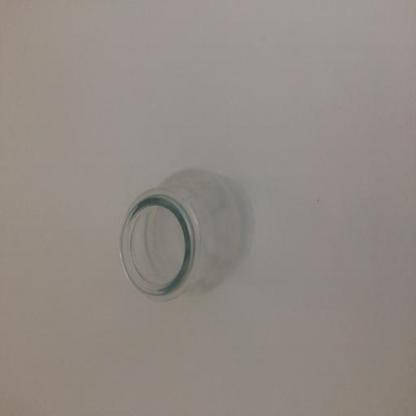trash: (118, 189, 206, 307)
